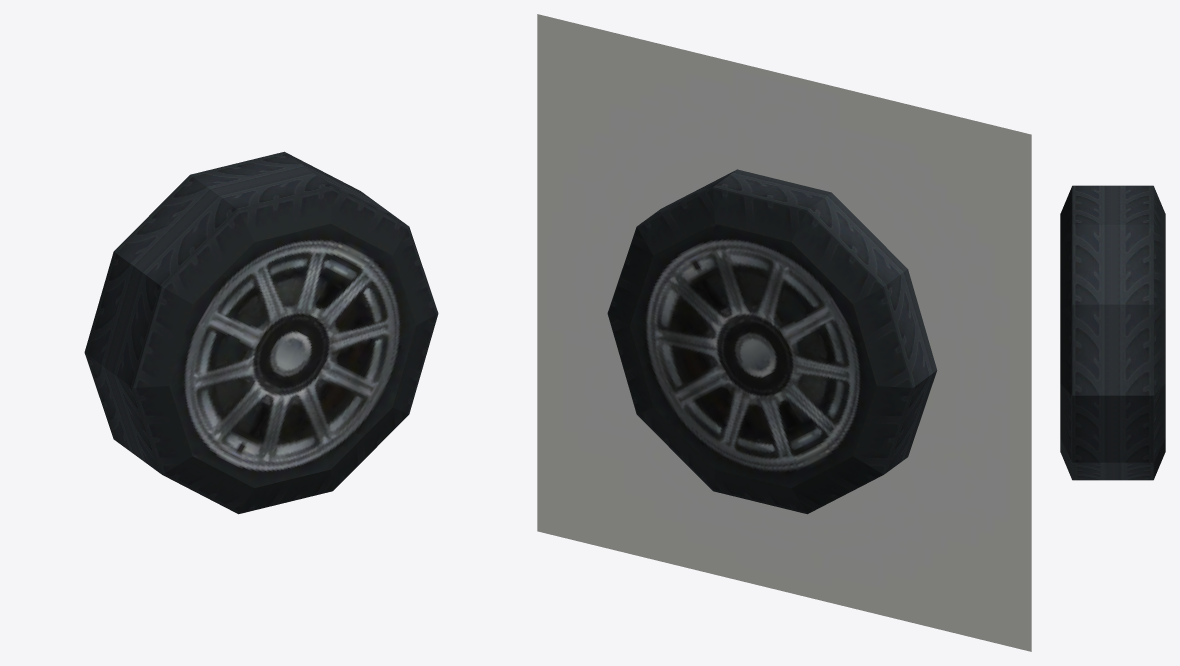
Rendered from LoadingWheel.glb.
3 views of the same model, side by side, from view 1: azimuth 30°, elevation 25°; view 2: azimuth 150°, elevation 25°; view 3: azimuth 270°, elevation 25° (orthographic). The views are drawn at different scales.
Visible parts, largest first — view 1: front_wheel; view 2: dots, front_wheel; view 3: front_wheel.
Boxes of the visible parts, x1,y1,x2,y2 form: front_wheel: (84, 151, 438, 514); dots: (537, 14, 1031, 651); front_wheel: (607, 169, 937, 514); front_wheel: (1060, 185, 1165, 480).
Size of the model in its own units: 4.06 by 4.06 by 0.8894.
Materials: 2 (2 with a texture image).
